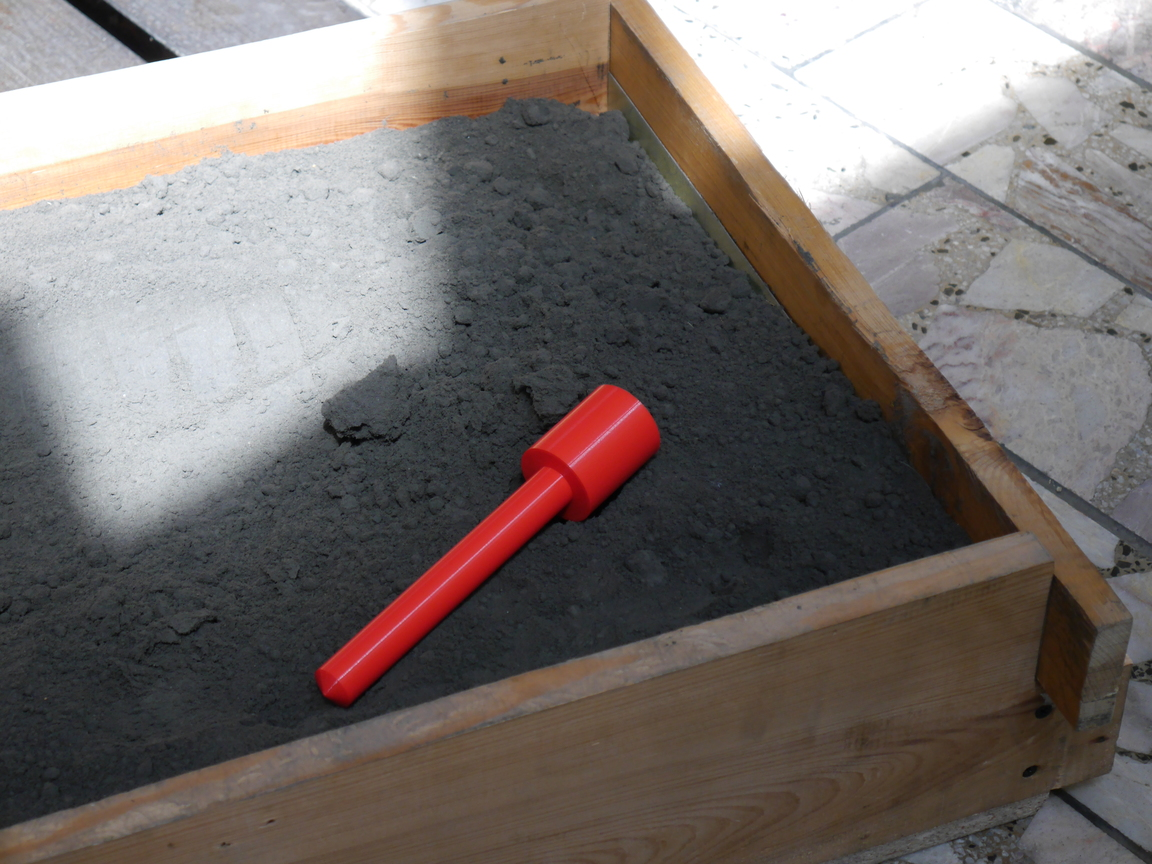cargo_g: (317, 384, 660, 705)
